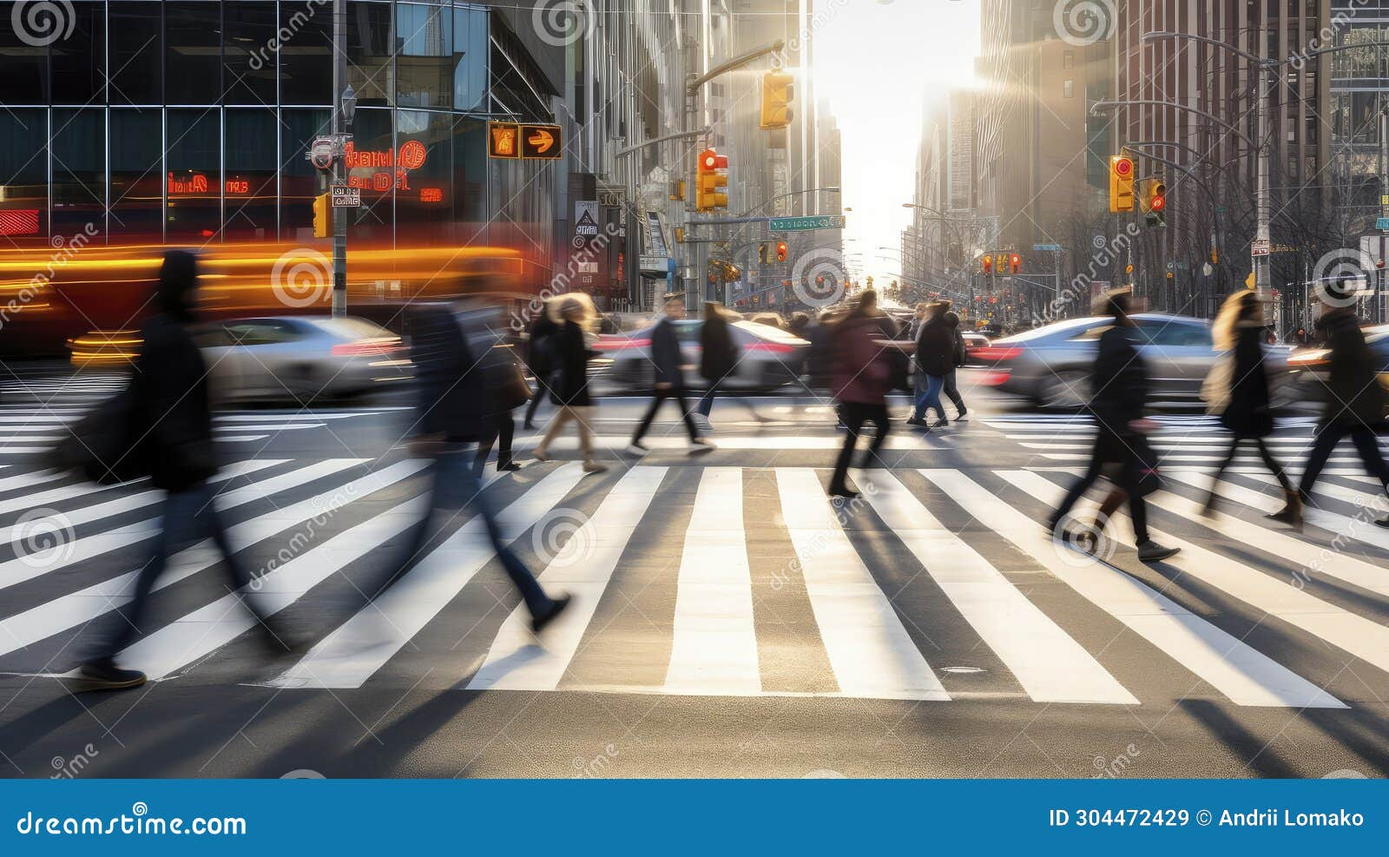Crosswalk: (547, 443, 1389, 726)
